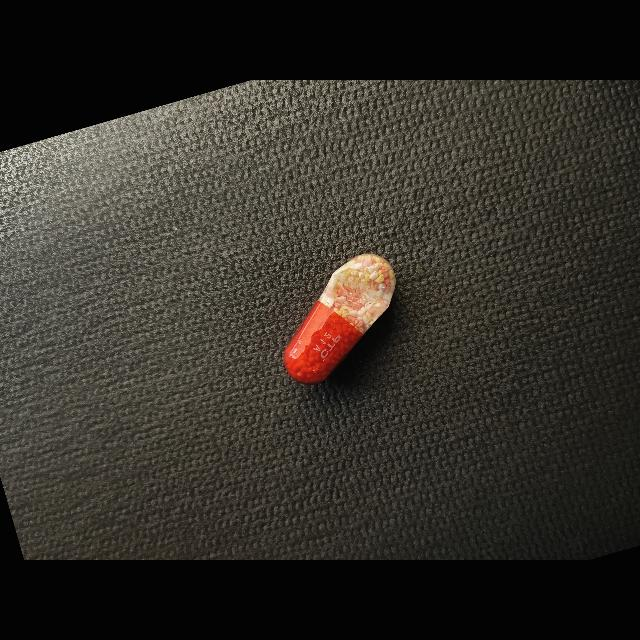Defective Capsule: (284, 254, 396, 383)
